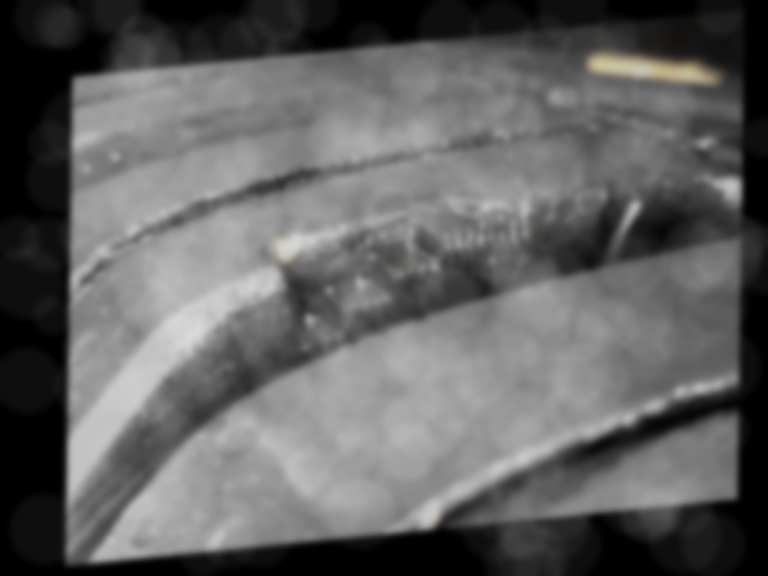temoin:80: (254, 179, 537, 374)
